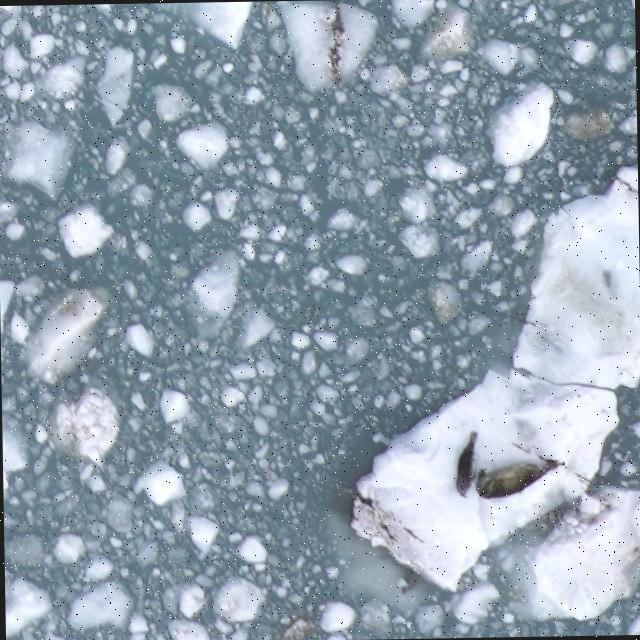seal: (473, 459, 565, 501), (449, 428, 480, 502)
